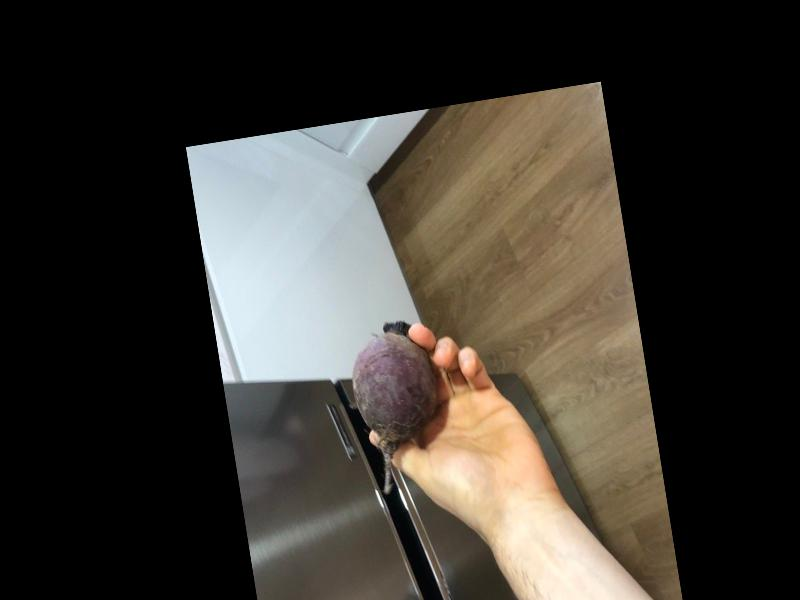Beet: (345, 315, 449, 494)
